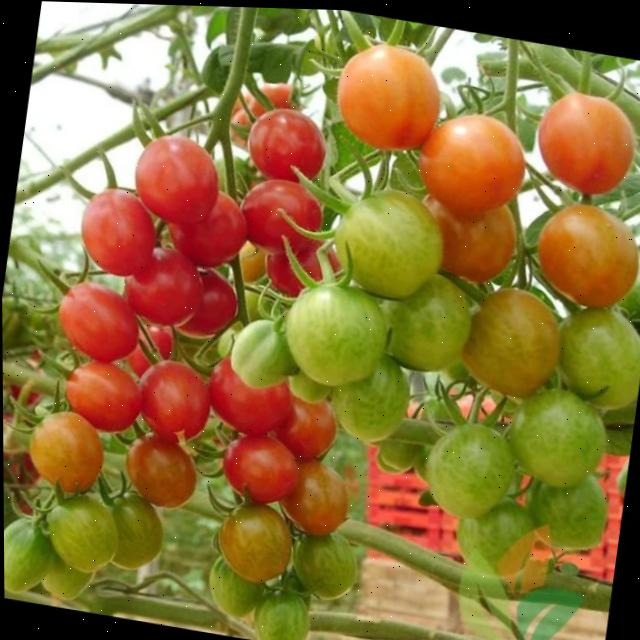fine: (329, 28, 453, 167), (408, 99, 528, 218), (462, 282, 569, 401), (536, 77, 640, 194), (535, 191, 640, 297), (422, 186, 529, 284), (20, 403, 117, 497), (211, 493, 298, 590), (121, 424, 209, 514), (280, 452, 361, 540)
overripe: (128, 352, 218, 454), (240, 99, 340, 190), (129, 132, 224, 227), (74, 183, 163, 284), (52, 280, 146, 368), (120, 240, 205, 334), (238, 172, 329, 254), (57, 354, 147, 433), (202, 364, 303, 432), (172, 183, 251, 269)
unripe: (321, 168, 450, 296), (279, 268, 398, 394), (378, 263, 484, 386), (420, 407, 526, 518), (500, 388, 613, 487), (558, 300, 640, 412), (521, 462, 613, 549), (38, 484, 125, 574), (224, 304, 303, 396), (100, 488, 171, 579), (286, 527, 365, 604), (3, 512, 49, 594), (252, 586, 312, 640)
